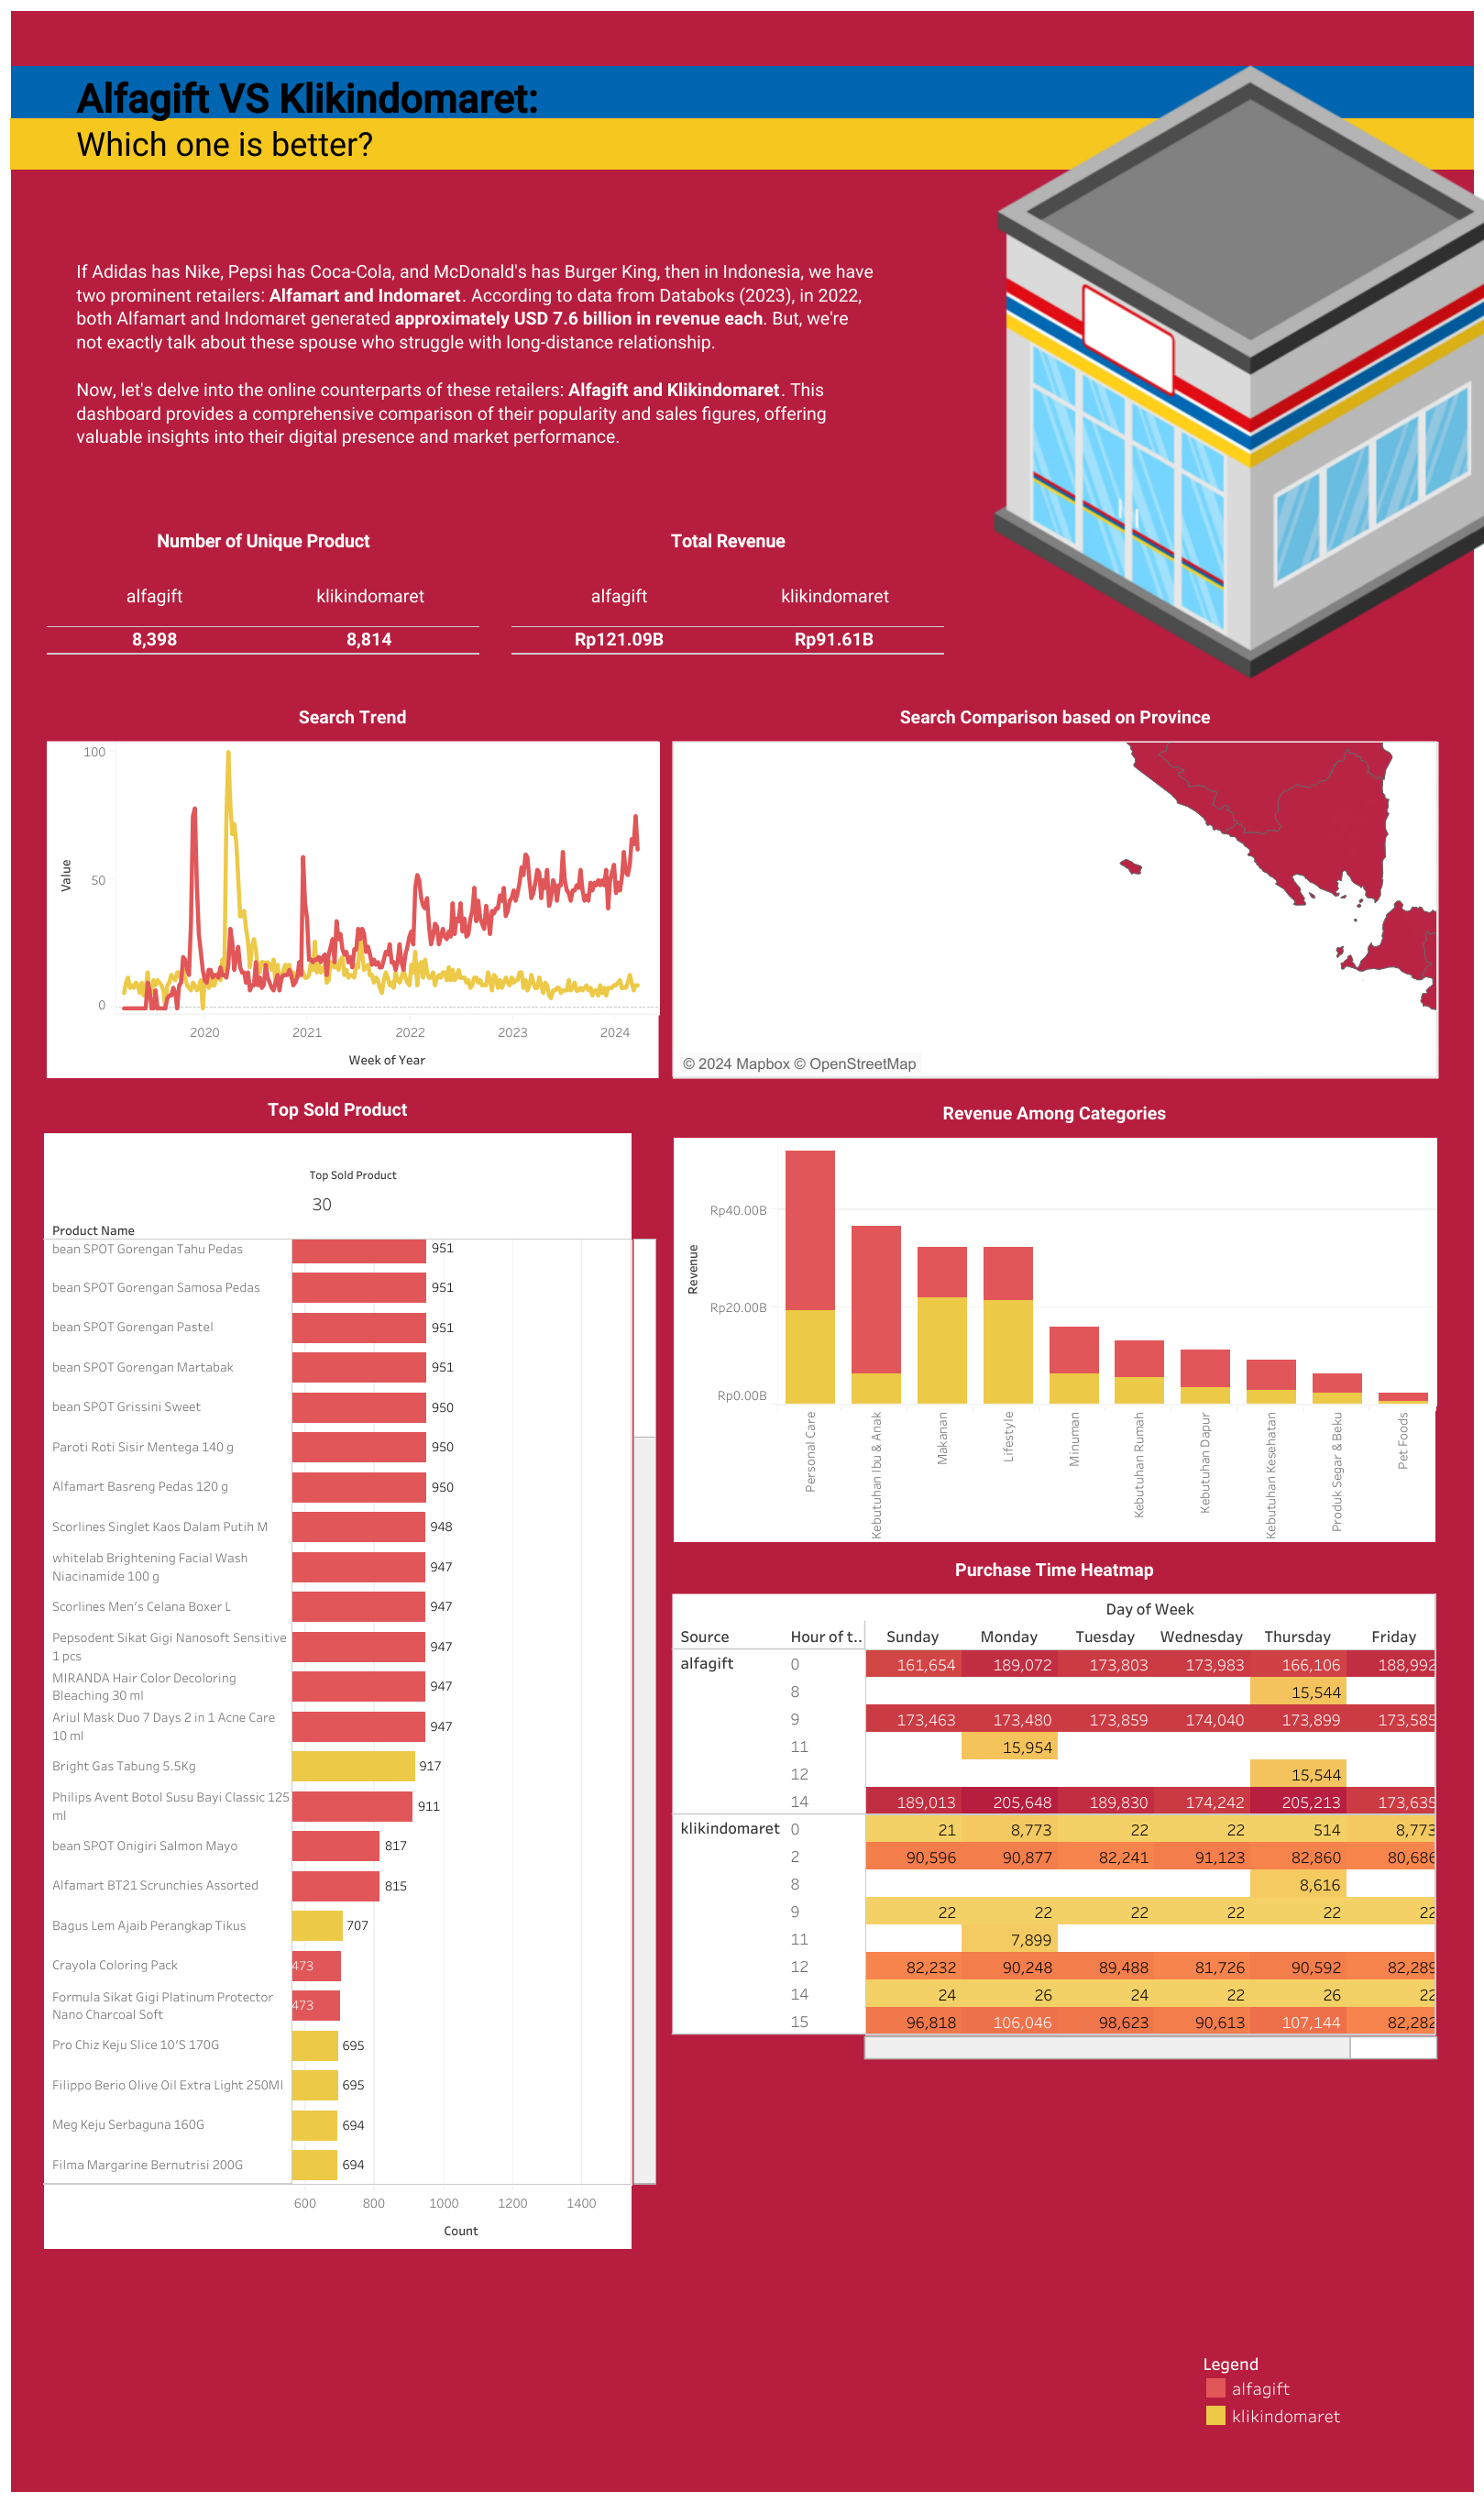

What the dashboard file says about the page in this screenshot:
{"tool":"tableau","page":{"name":"Dashboard 1","canvas":[1080,1820],"ordinal":0},"visuals":[{"type":"title","box":[53,40.8,547,91]},{"type":"text","box":[53,134,667,247]},{"type":"worksheet","title":"UniqProd","mark":"Automatic","cols":["source"],"box":[34,379,316,112]},{"type":"worksheet","title":"TotalRev","mark":"Automatic","cols":["source"],"box":[372,379,360,116]},{"type":"worksheet","title":"SearcTrnd","mark":"Automatic","cols":["Minggu"],"box":[34,507,445,277]},{"type":"worksheet","title":"SrchProv","mark":"Automatic","box":[489,507,557,277]},{"type":"worksheet","title":"TopSoldProd","mark":"Automatic","rows":["Top N Product by Sales","Calculation_1391612351183511552","Calculation_1391612351185915905"],"cols":["id"],"box":[32,792,446,844]},{"type":"worksheet","title":"RevCats","mark":"Automatic","rows":["price"],"cols":["grand_category"],"box":[490,795.3,554,326.1]},{"type":"parameter","param":"[Parameters].[Parameter 1]","box":[225,847,168,51]},{"type":"worksheet","title":"PurchHeat","mark":"Square","rows":["source","timestamp"],"cols":["dow"],"box":[489,1127,556,510]},{"type":"legend","title":"RevCats","param":"[federated.1gniplw040kok614vox0y19aa7xb].[none:source:nk]","box":[874,1707,162,79]}]}

Visuals, with their boxes in screenshot pixels (x1, y1, x2, y2), scaled from the page's 1080x1820 canvas onto the 1484x2502 screenshot:
title: BBox(72, 56, 824, 182)
text: BBox(72, 184, 989, 524)
"UniqProd" worksheet: BBox(47, 521, 481, 675)
"TotalRev" worksheet: BBox(511, 521, 1006, 680)
"SearcTrnd" worksheet: BBox(47, 697, 658, 1078)
"SrchProv" worksheet: BBox(672, 697, 1437, 1078)
"TopSoldProd" worksheet: BBox(44, 1089, 657, 2249)
"RevCats" worksheet: BBox(674, 1094, 1435, 1541)
parameter: BBox(309, 1164, 540, 1235)
"PurchHeat" worksheet (Square marks): BBox(672, 1549, 1436, 2251)
"RevCats" legend: BBox(1201, 2347, 1424, 2455)
